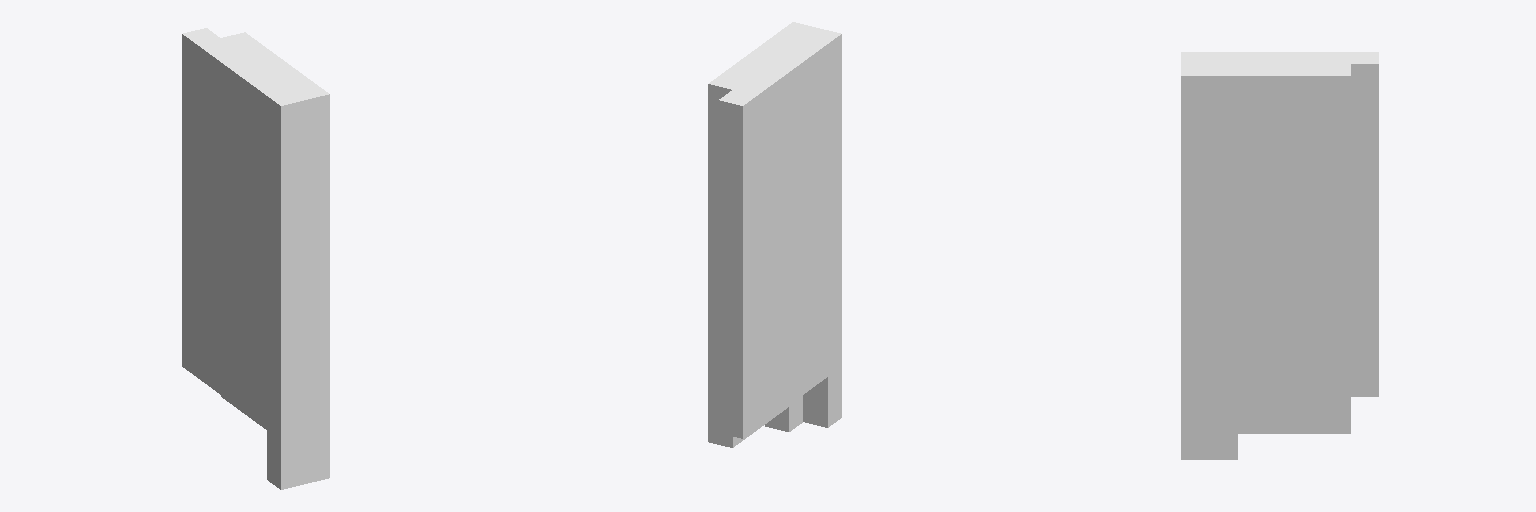
The model's file is Bentley-0.obj.
3 renders of one model, left to right at view 1: azimuth 30°, elevation 25°; view 2: azimuth 150°, elevation 25°; view 3: azimuth 270°, elevation 25°, orthographic.
Parts seen in each view (by area): view 1: object 1; view 2: object 1; view 3: object 1.
Part boxes in pixels (left/top/right/bottom): object 1: left=182, top=28, right=329, bottom=489; object 1: left=708, top=22, right=841, bottom=447; object 1: left=1181, top=52, right=1378, bottom=459.
Bounding box in the file's own units: 2 × 15 × 7.